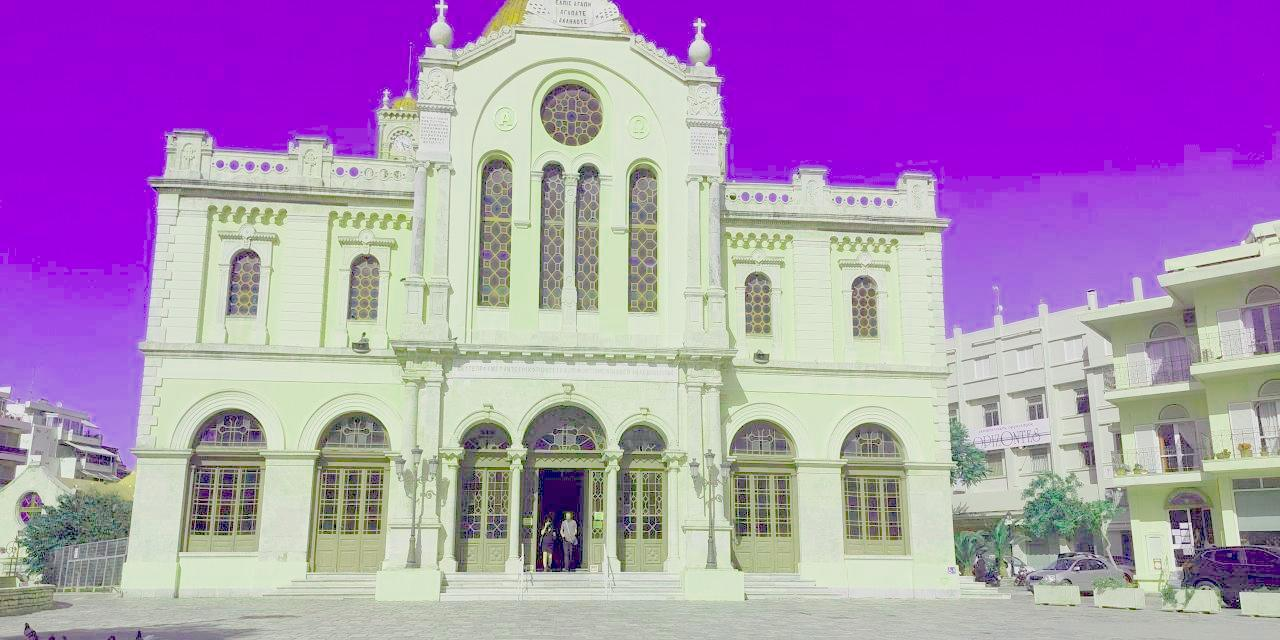Agios Minas: (120, 1, 963, 604)
